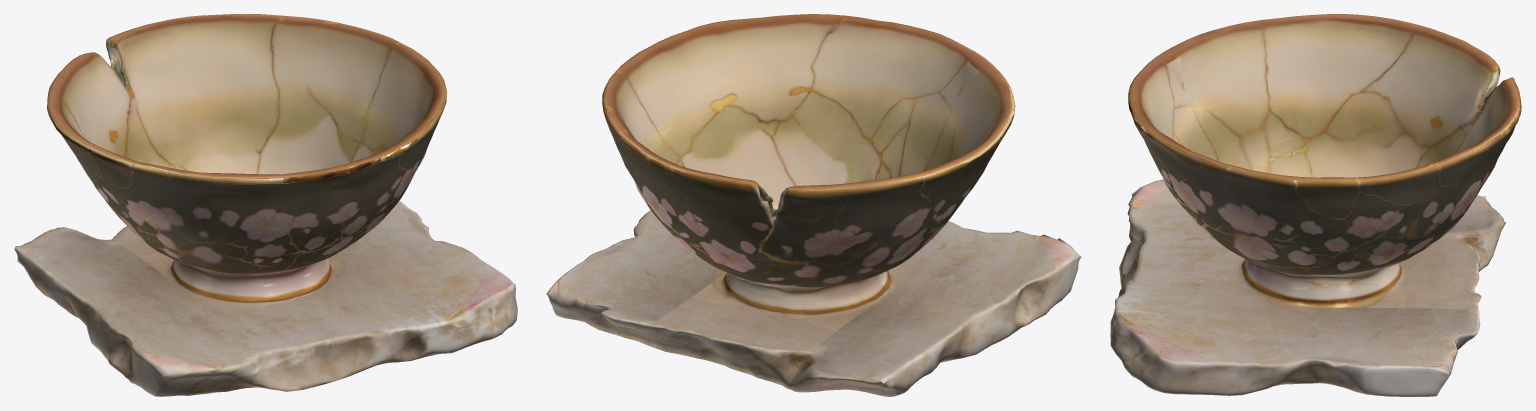
The model's file is Cracked Bowl GLB.glb.
3 renders of one model, left to right at view 1: azimuth 30°, elevation 25°; view 2: azimuth 150°, elevation 25°; view 3: azimuth 270°, elevation 25°, orthographic. The views are drawn at different scales.
Bounding box in the file's own units: 2 × 1.11 × 1.96.
Materials: 1 (1 with a texture image).
